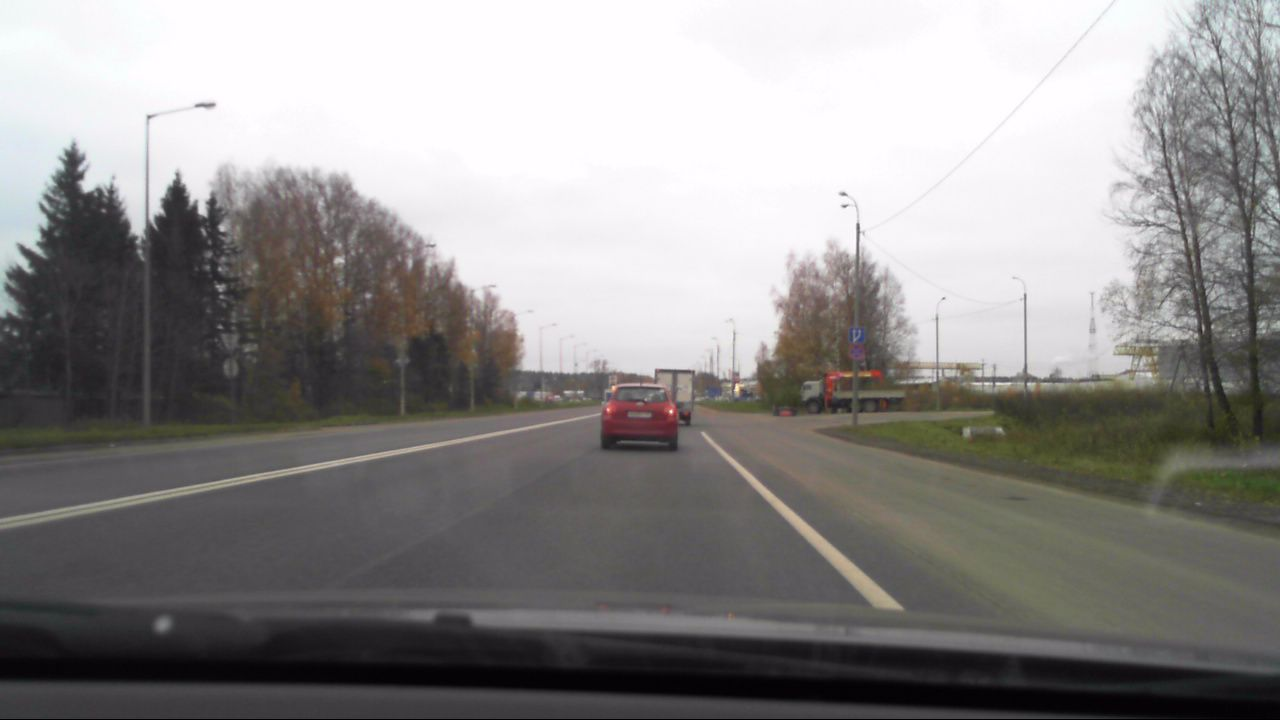No Parking: (849, 342, 865, 361)
